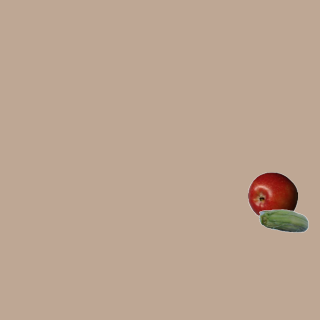Apple Braeburn: (247, 171, 297, 221)
Corn Husk: (258, 197, 308, 247)
